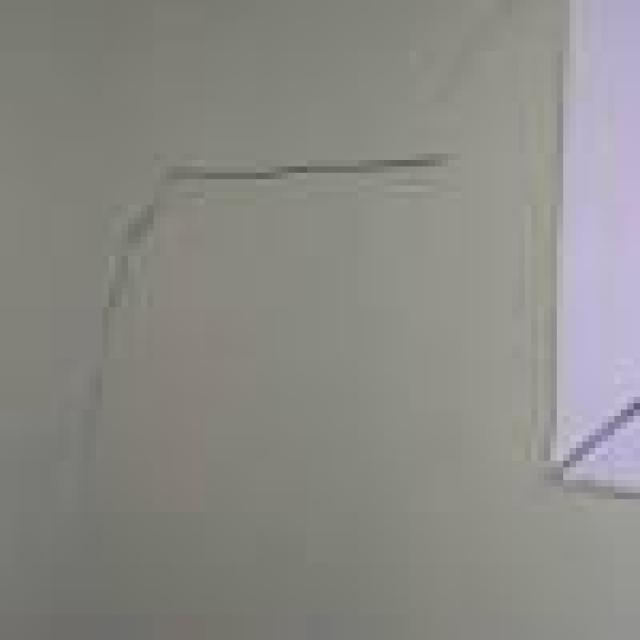Crack: (76, 141, 442, 486)
